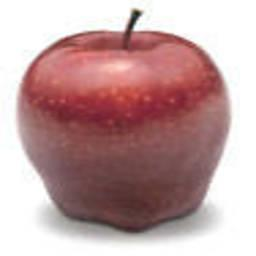apple: (15, 23, 230, 231)
